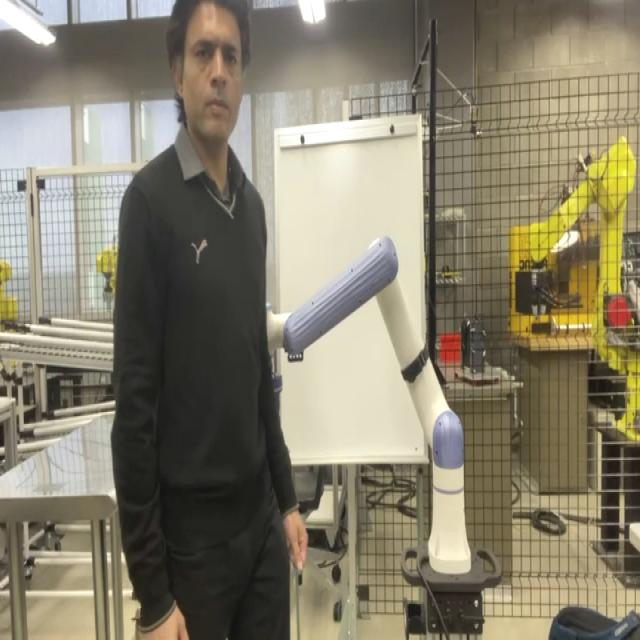robot: (264, 219, 482, 584)
